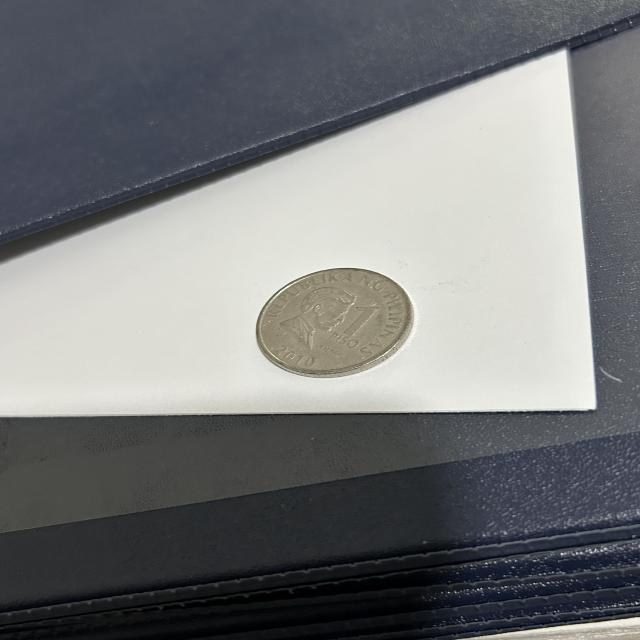1_Old_Front: (325, 302, 377, 346)
